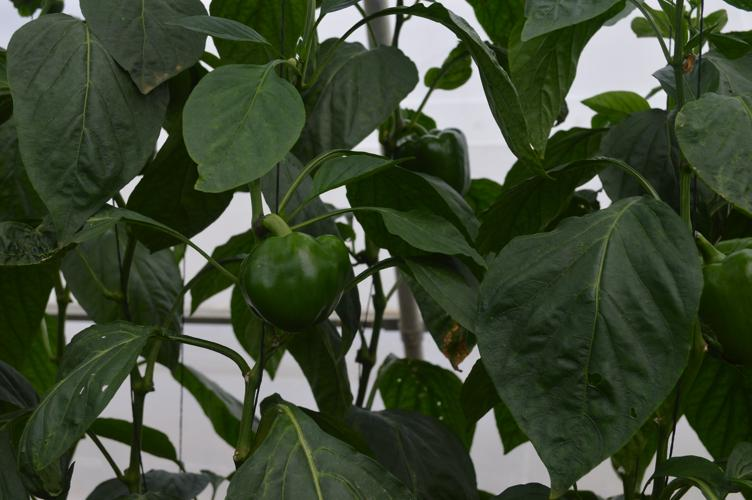BellPepper: (240, 232, 352, 333), (694, 251, 750, 361), (395, 124, 471, 199)
